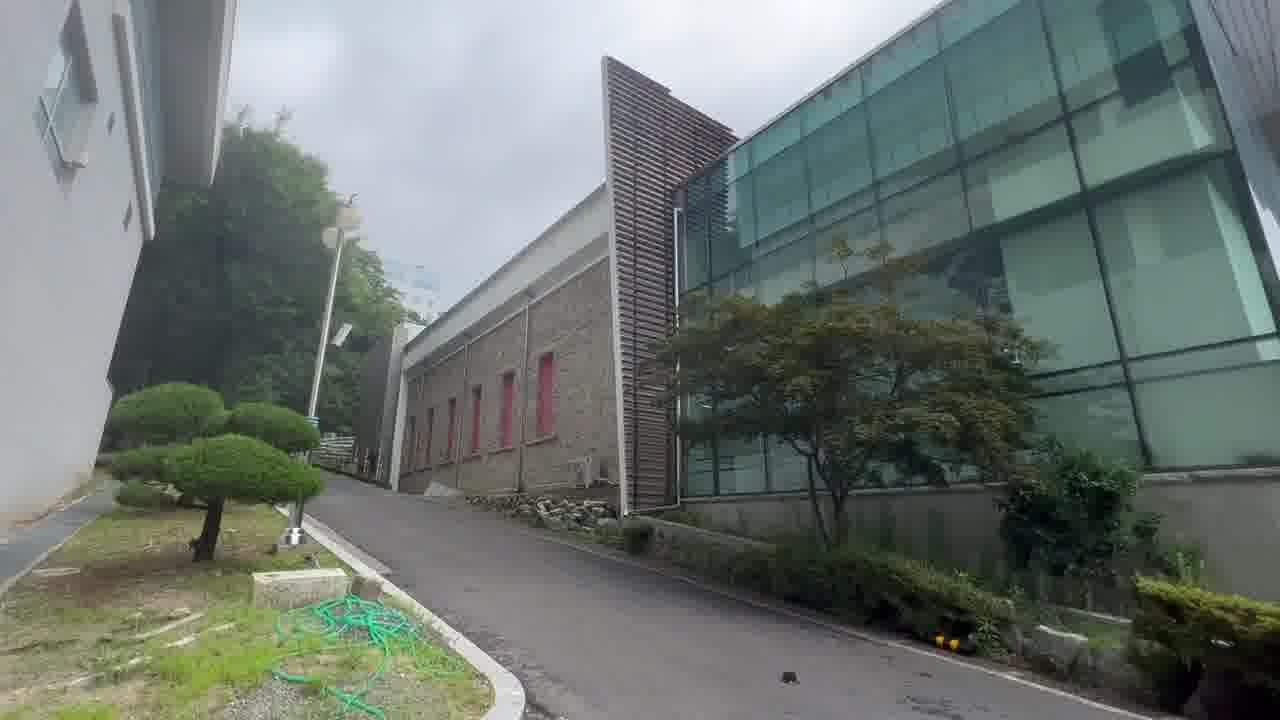building: (367, 1, 1280, 530)
